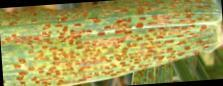Wheat: (114, 10, 217, 71), (69, 5, 123, 84), (7, 17, 69, 84)
